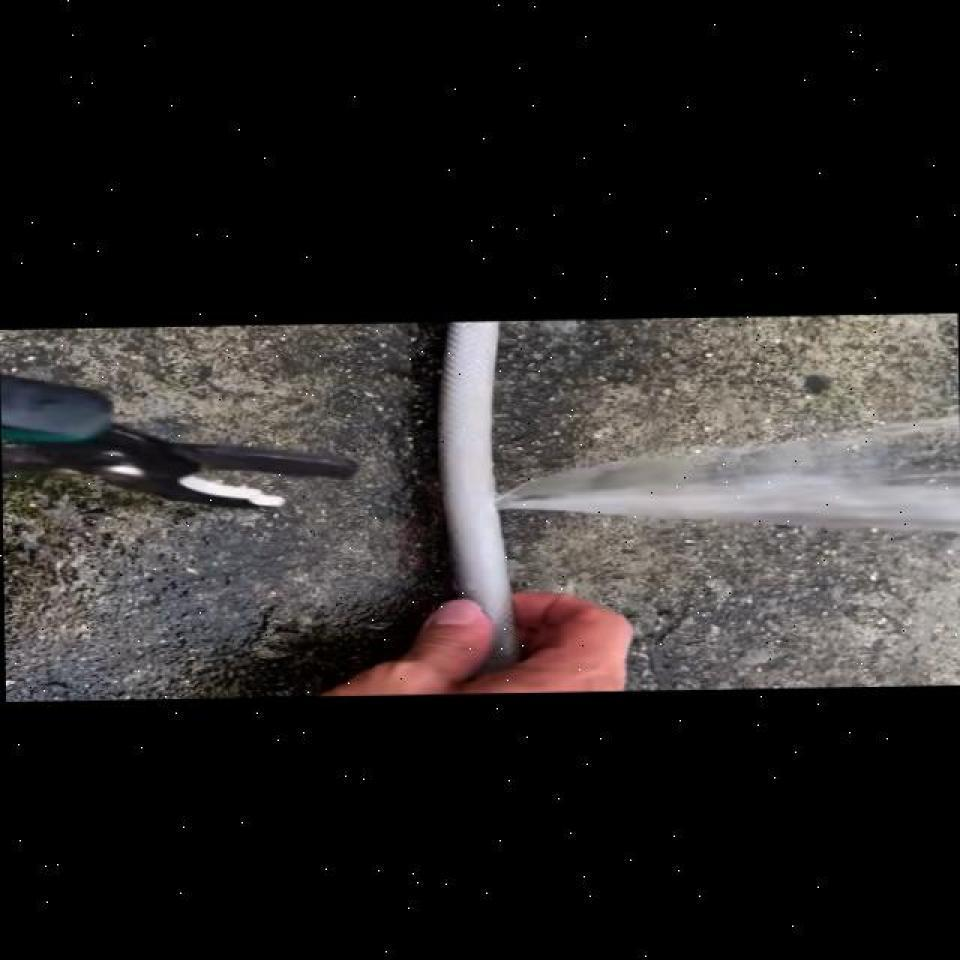pipe burst: (484, 420, 960, 523)
